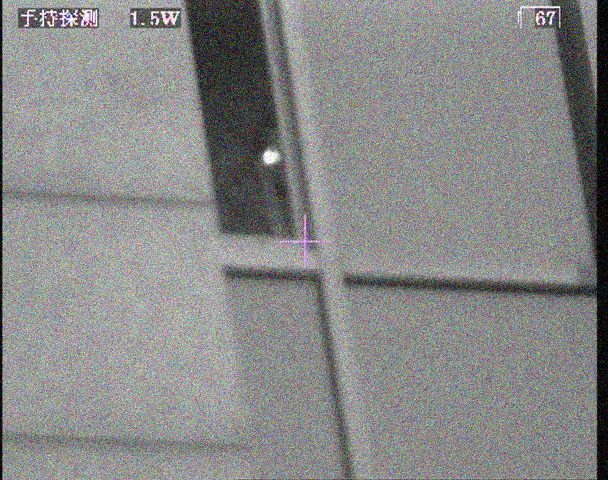my: (263, 147, 280, 165)
